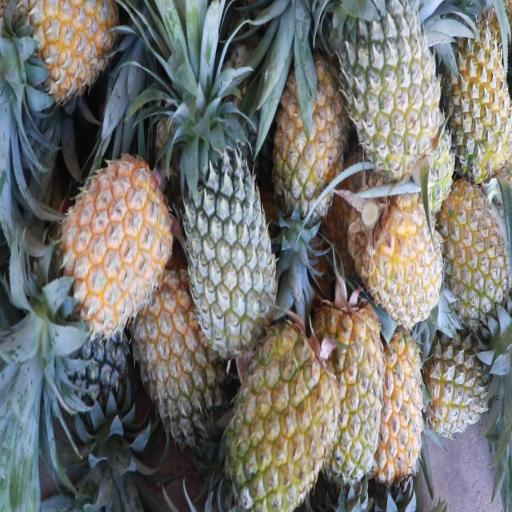------------------------------: (347, 0, 438, 170), (134, 283, 223, 442), (447, 26, 512, 182), (437, 182, 505, 314), (420, 330, 496, 438)
Pineapple - v8 v1: (225, 330, 332, 512), (66, 160, 168, 326), (260, 60, 336, 221), (316, 304, 384, 483), (363, 186, 441, 327), (12, 0, 112, 100), (374, 330, 421, 484)
